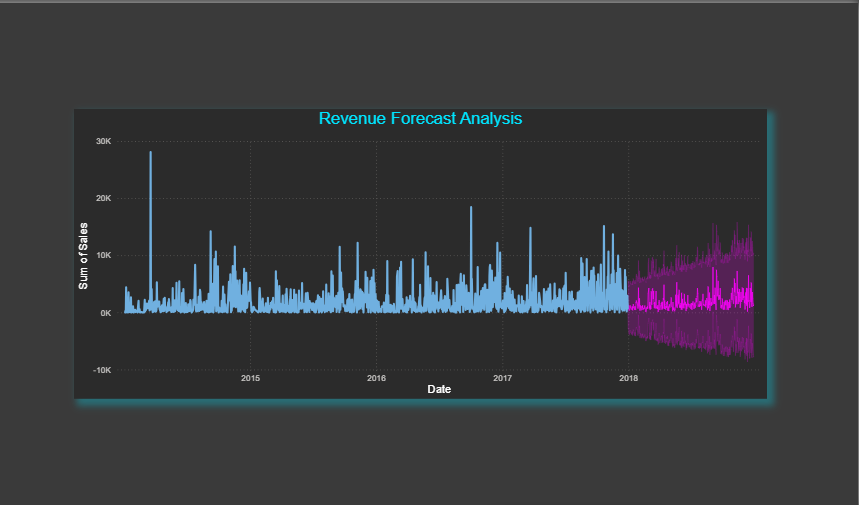

What the dashboard file says about the page in this screenshot:
{"tool":"powerbi","page":{"name":"Forecasting visuals for revenue","canvas":[1280,720],"ordinal":5},"visuals":[{"type":"lineChart","title":"Revenue Forecast Analysis","fields":{"Y":["Sum(Sheet3.Sales)"],"Category":["LocalDateTable_9a16231f-129f-4b71-9acf-3b09ac2f7150.Date"]},"box":[160,151.4,990,414.3],"z":0}]}

Visuals, with their boxes on the page's 1280x720 design canvas (x1, y1, x2, y2). These are canvas units, not pixel positions in the 859x505 screenshot, which may show the page scaled, cropped or inside an application window:
"Revenue Forecast Analysis" lineChart: detection(160, 151, 1150, 566)
